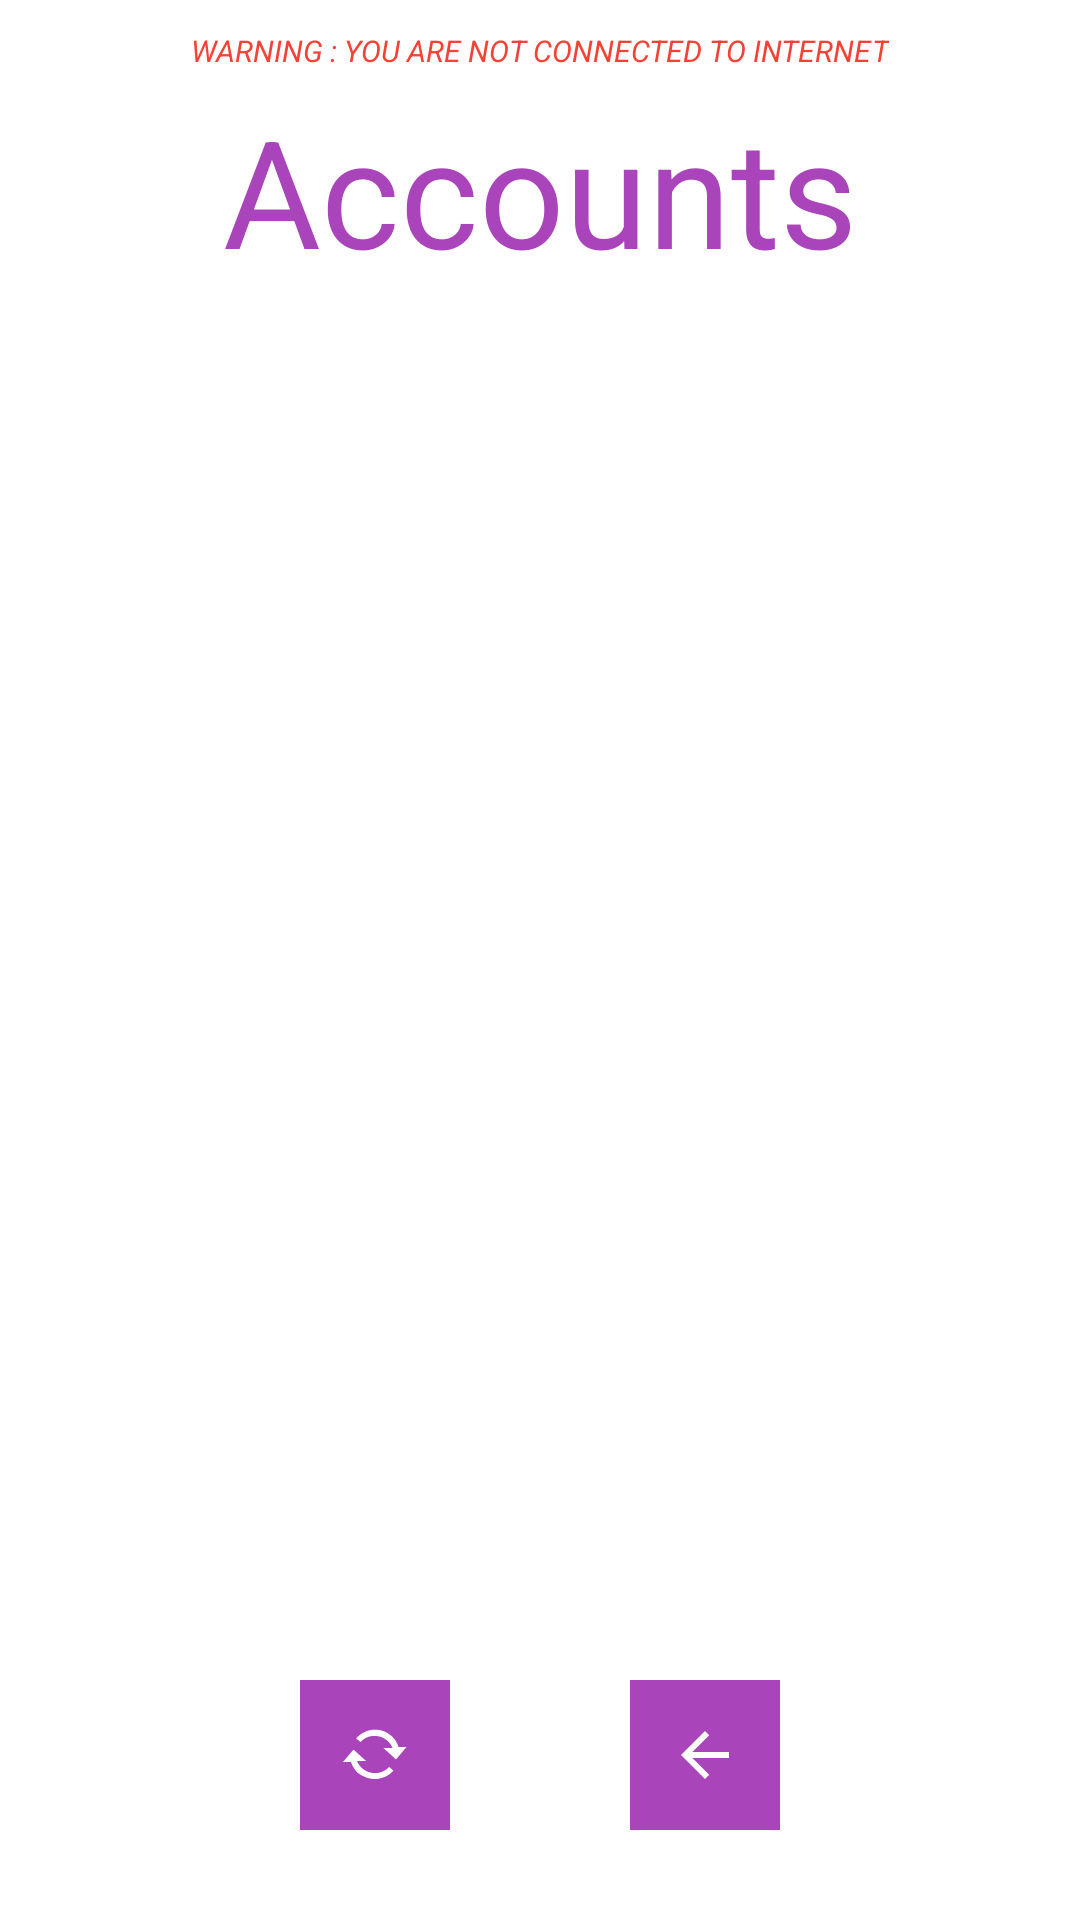

Screen size 1080 x 1920. Icon name, then its center in pixels as (x,y):
sync: (375,1755)
